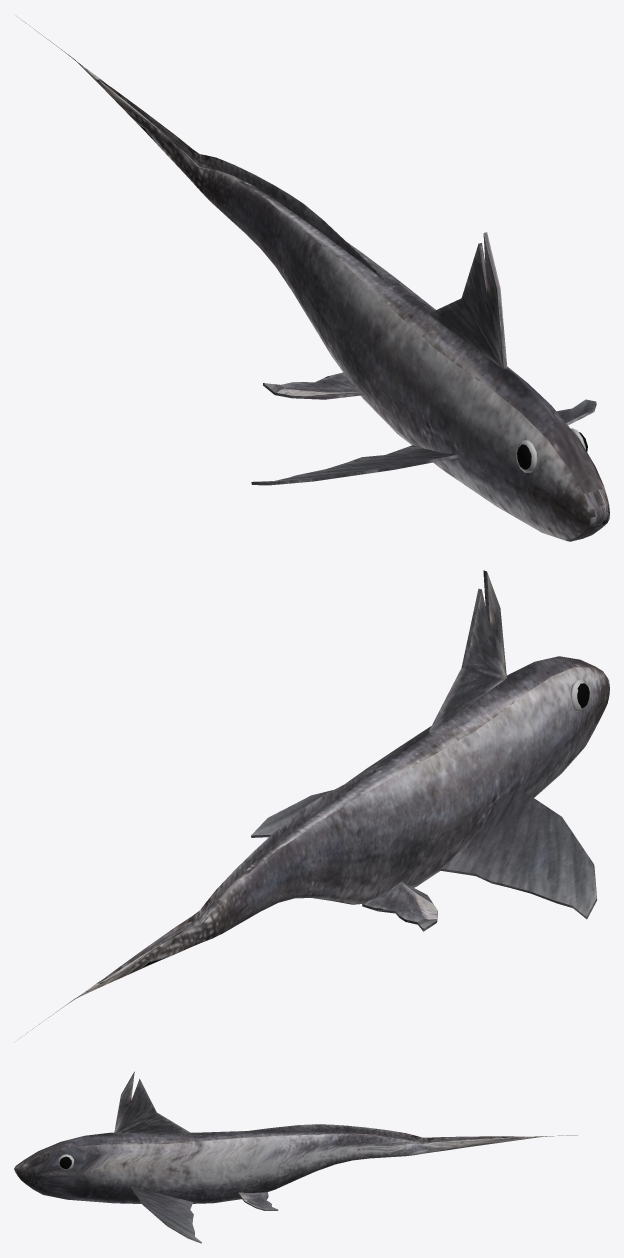
The model's file is Silver Chimaera.glb.
3 renders of one model, top to bottom at view 1: azimuth 30°, elevation 25°; view 2: azimuth 150°, elevation 25°; view 3: azimuth 270°, elevation 25°, orthographic. The views are drawn at different scales.
Parts seen in each view (by area): view 1: Plane.001, Icosphere; view 2: Plane.001; view 3: Plane.001.
Boxes of the visible parts, x1,y1,x2,y2 form: Plane.001: (22,20,609,541); Icosphere: (516,428,587,472); Plane.001: (15,570,609,1041); Plane.001: (14,1071,577,1243).
Size of the model in its own units: 2.14 by 1.59 by 6.53.
3 materials, 1 textured.
